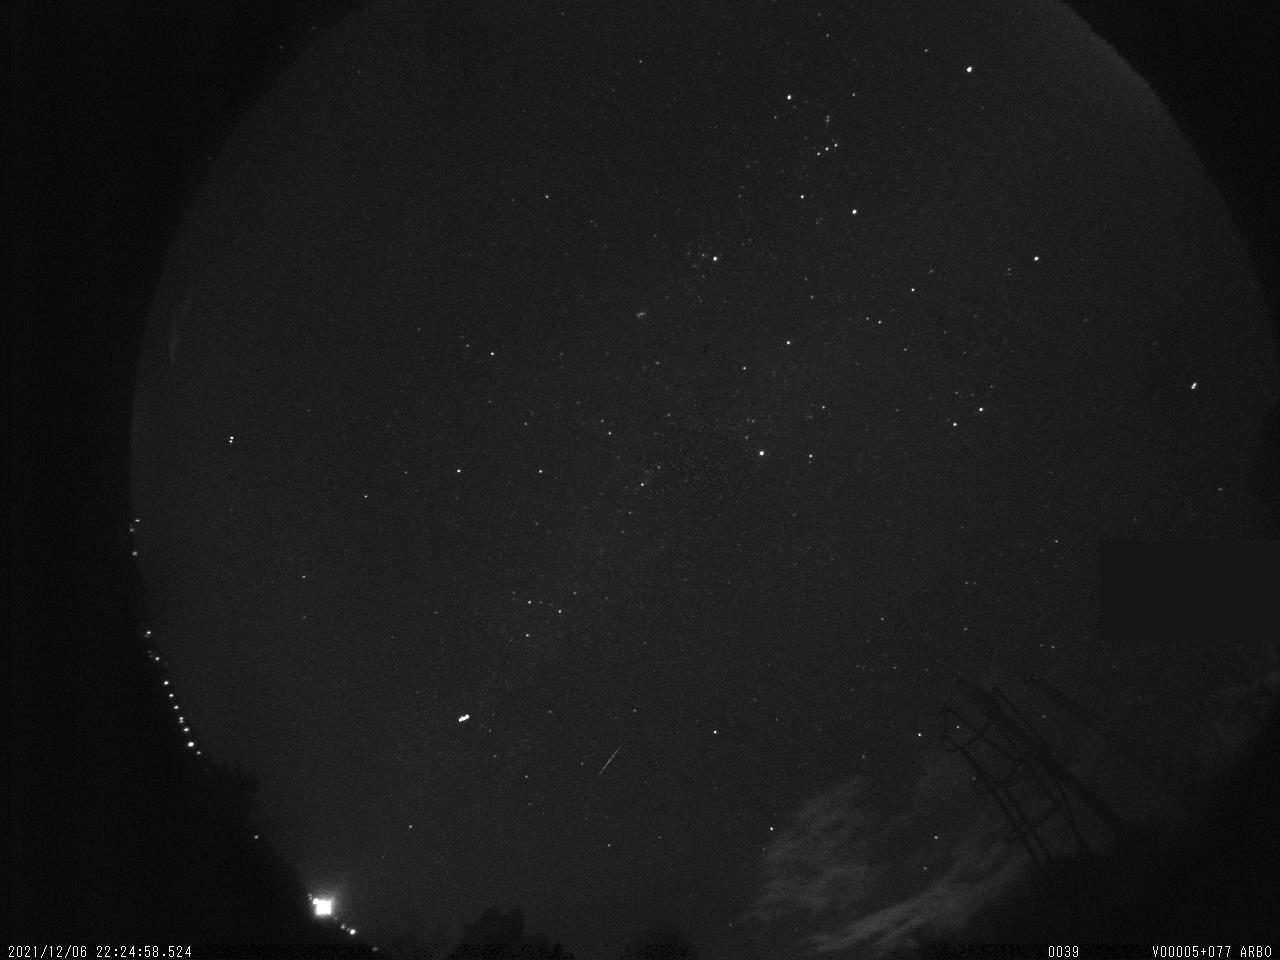meteor: (589, 737, 634, 784)
